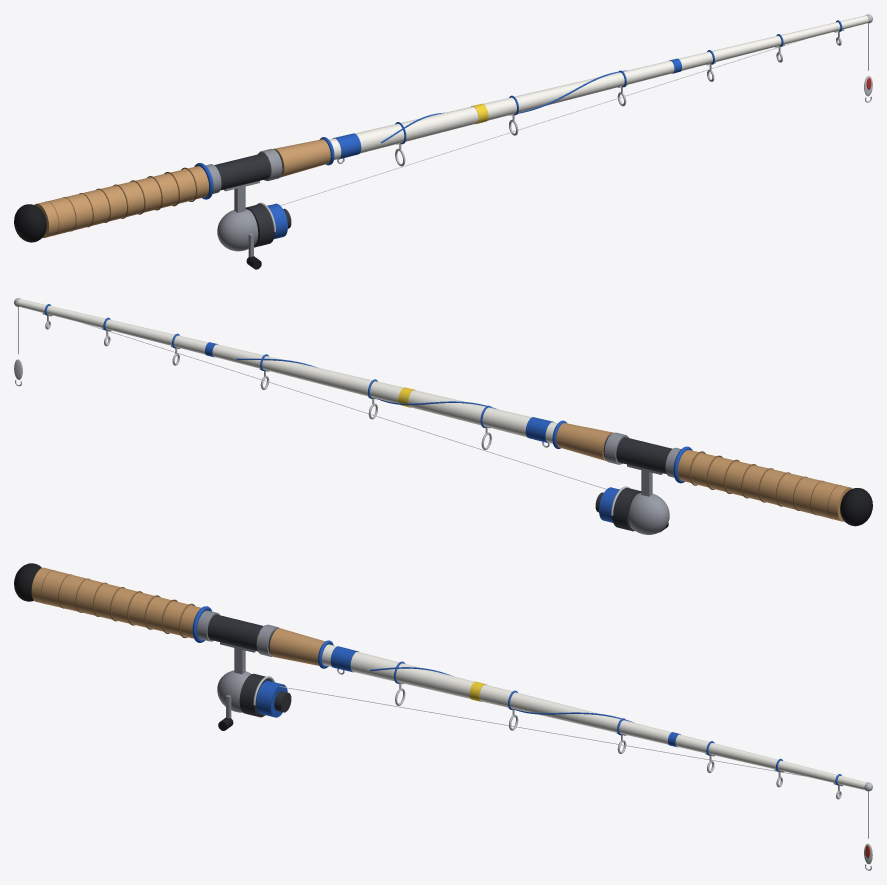
File: ROD_FIBERGLASS.glb
3 views of the same model, one above another, from view 1: azimuth 30°, elevation 25°; view 2: azimuth 150°, elevation 25°; view 3: azimuth 330°, elevation 25° (orthographic).
Parts seen in each view (by area): view 1: blank, rear_grip, reel_seat, fore_grip, reel_gearbox, fighting_butt, line, reel_rotor; view 2: blank, rear_grip, reel_seat, reel_gearbox, fore_grip, fighting_butt, line, reel_rotor, decal_band_0; view 3: blank, rear_grip, fore_grip, reel_seat, reel_gearbox, reel_spool, reel_rotor, line, fighting_butt.
Part boxes in pixels (box(x1,y1,x2,y2)): blank: box(329, 15, 868, 159); rear_grip: box(34, 166, 208, 237); reel_seat: box(214, 151, 283, 190); fore_grip: box(273, 139, 330, 177); reel_gearbox: box(217, 209, 258, 251); fighting_butt: box(14, 204, 46, 242); line: box(280, 39, 803, 205); reel_rotor: box(245, 204, 274, 247); blank: box(18, 299, 557, 443); rear_grip: box(678, 450, 852, 521); reel_seat: box(603, 434, 672, 473); reel_gearbox: box(628, 493, 669, 534); fore_grip: box(556, 423, 613, 461); fighting_butt: box(840, 488, 872, 526); line: box(83, 323, 606, 489); reel_rotor: box(612, 488, 641, 531); decal_band_0: box(525, 417, 553, 443); blank: box(322, 644, 866, 789); rear_grip: box(31, 567, 201, 638); fore_grip: box(269, 628, 324, 665); reel_seat: box(207, 614, 275, 653); reel_gearbox: box(217, 670, 251, 712); reel_spool: box(256, 680, 287, 717); reel_rotor: box(239, 673, 272, 717); line: box(279, 686, 803, 776); fighting_butt: box(14, 563, 41, 601).
Bounding box in the file's own units: 1.74 × 0.198 × 0.0992.
